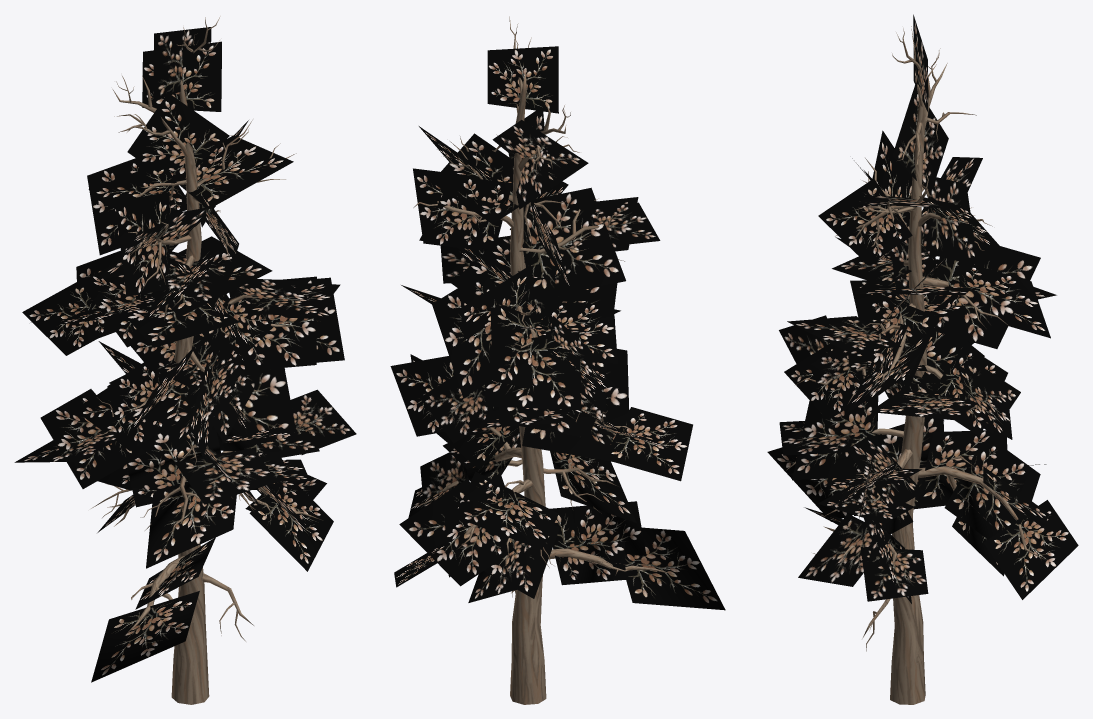
File: P_PineLeafySnow01.obj
The picture shows the model from 3 angles, left to right: view 1: azimuth 30°, elevation 25°; view 2: azimuth 150°, elevation 25°; view 3: azimuth 270°, elevation 25°; orthographic projection.
Size of the model in its own units: 6.71 by 14.38 by 6.23.
